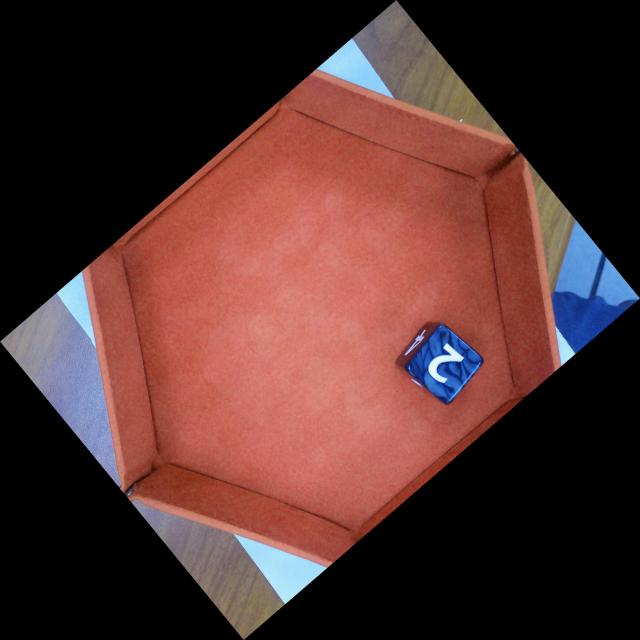dice: (406, 322, 484, 405)
